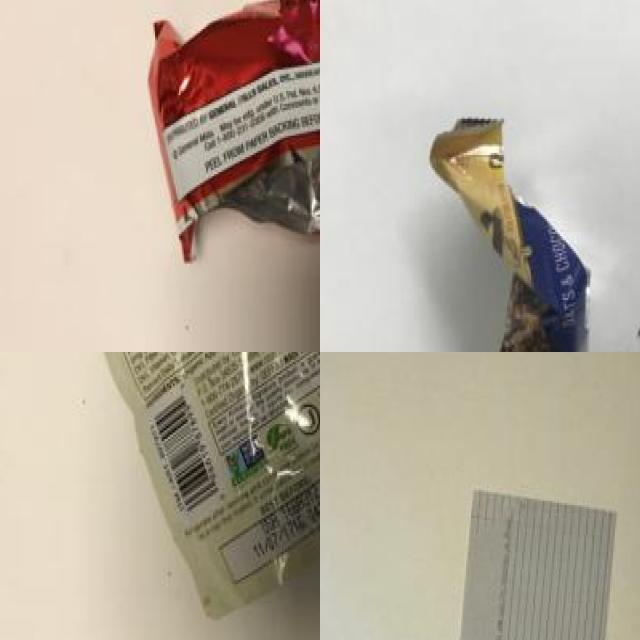paper: (439, 484, 637, 640)
trash: (77, 352, 320, 636), (426, 99, 640, 352), (120, 0, 320, 269)
